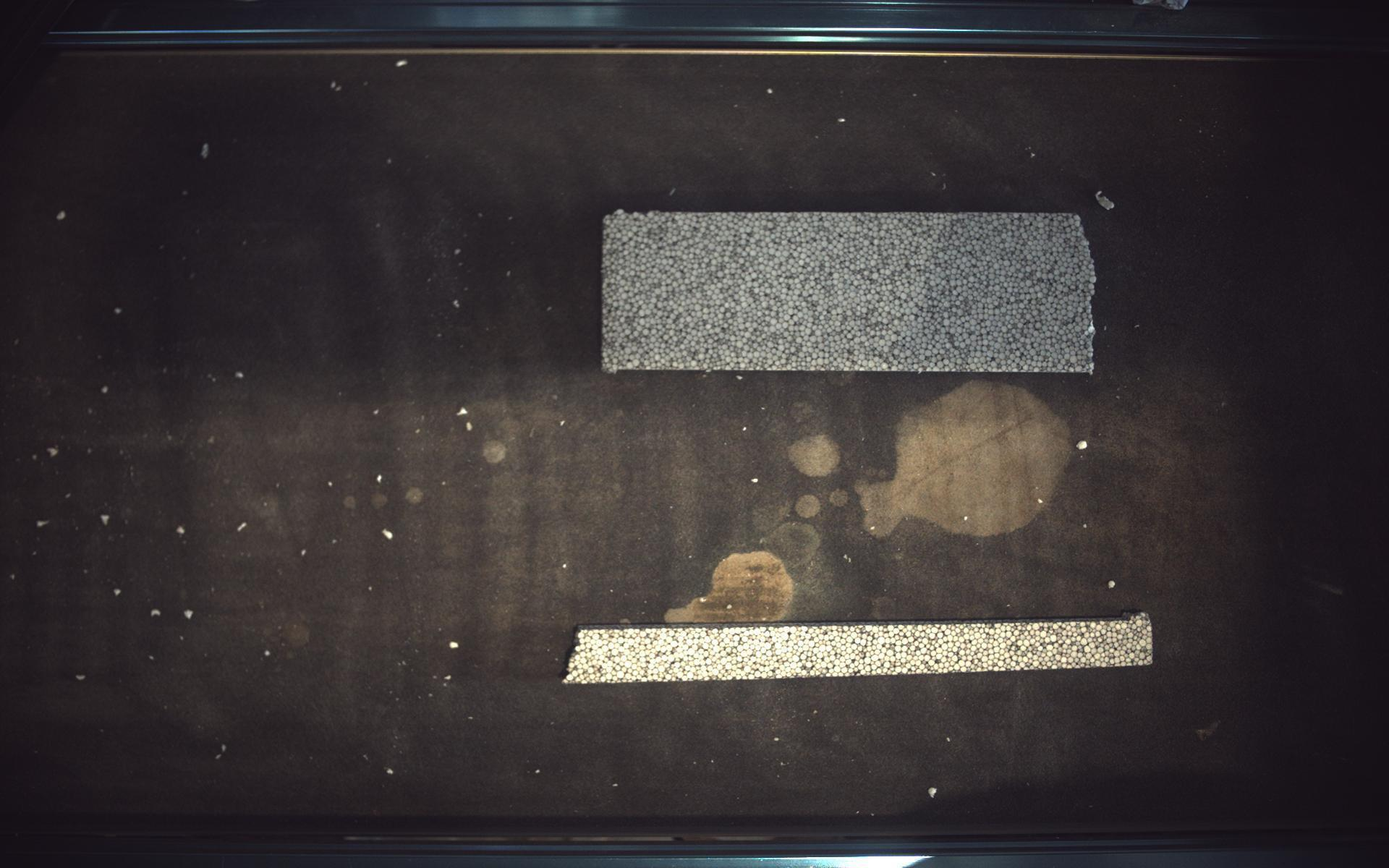foam: (603, 210, 1097, 373), (564, 613, 1155, 685)
